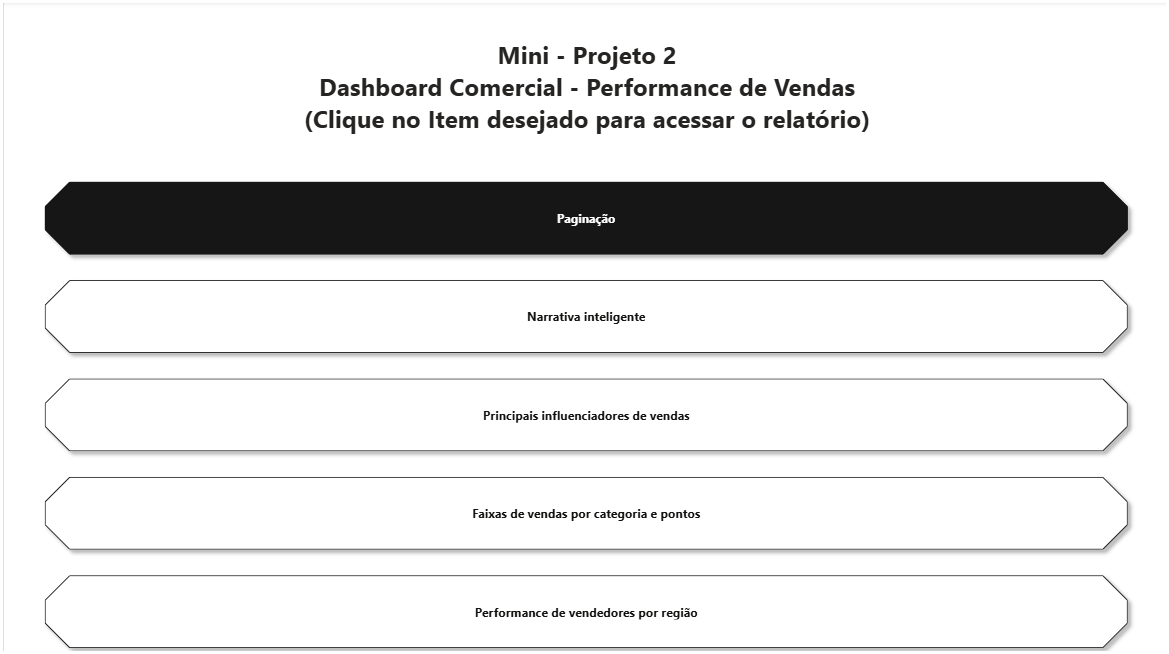

Layout of this report page (visuals, bound fields, positions):
{"tool":"powerbi","page":{"name":"Paginação","canvas":[1280,720],"ordinal":0},"visuals":[{"type":"pageNavigator","box":[35.7,189.4,1207.6,531],"z":0},{"type":"textbox","box":[35.7,0,1208.9,175.6],"z":1000}]}

Visuals, with their boxes in screenshot pixels (x1, y1, x2, y2), scaled from the page's 1280x720 canvas onto the 1169x654 screenshot:
pageNavigator: box=[33, 172, 1135, 653]
textbox: box=[33, 0, 1137, 160]
